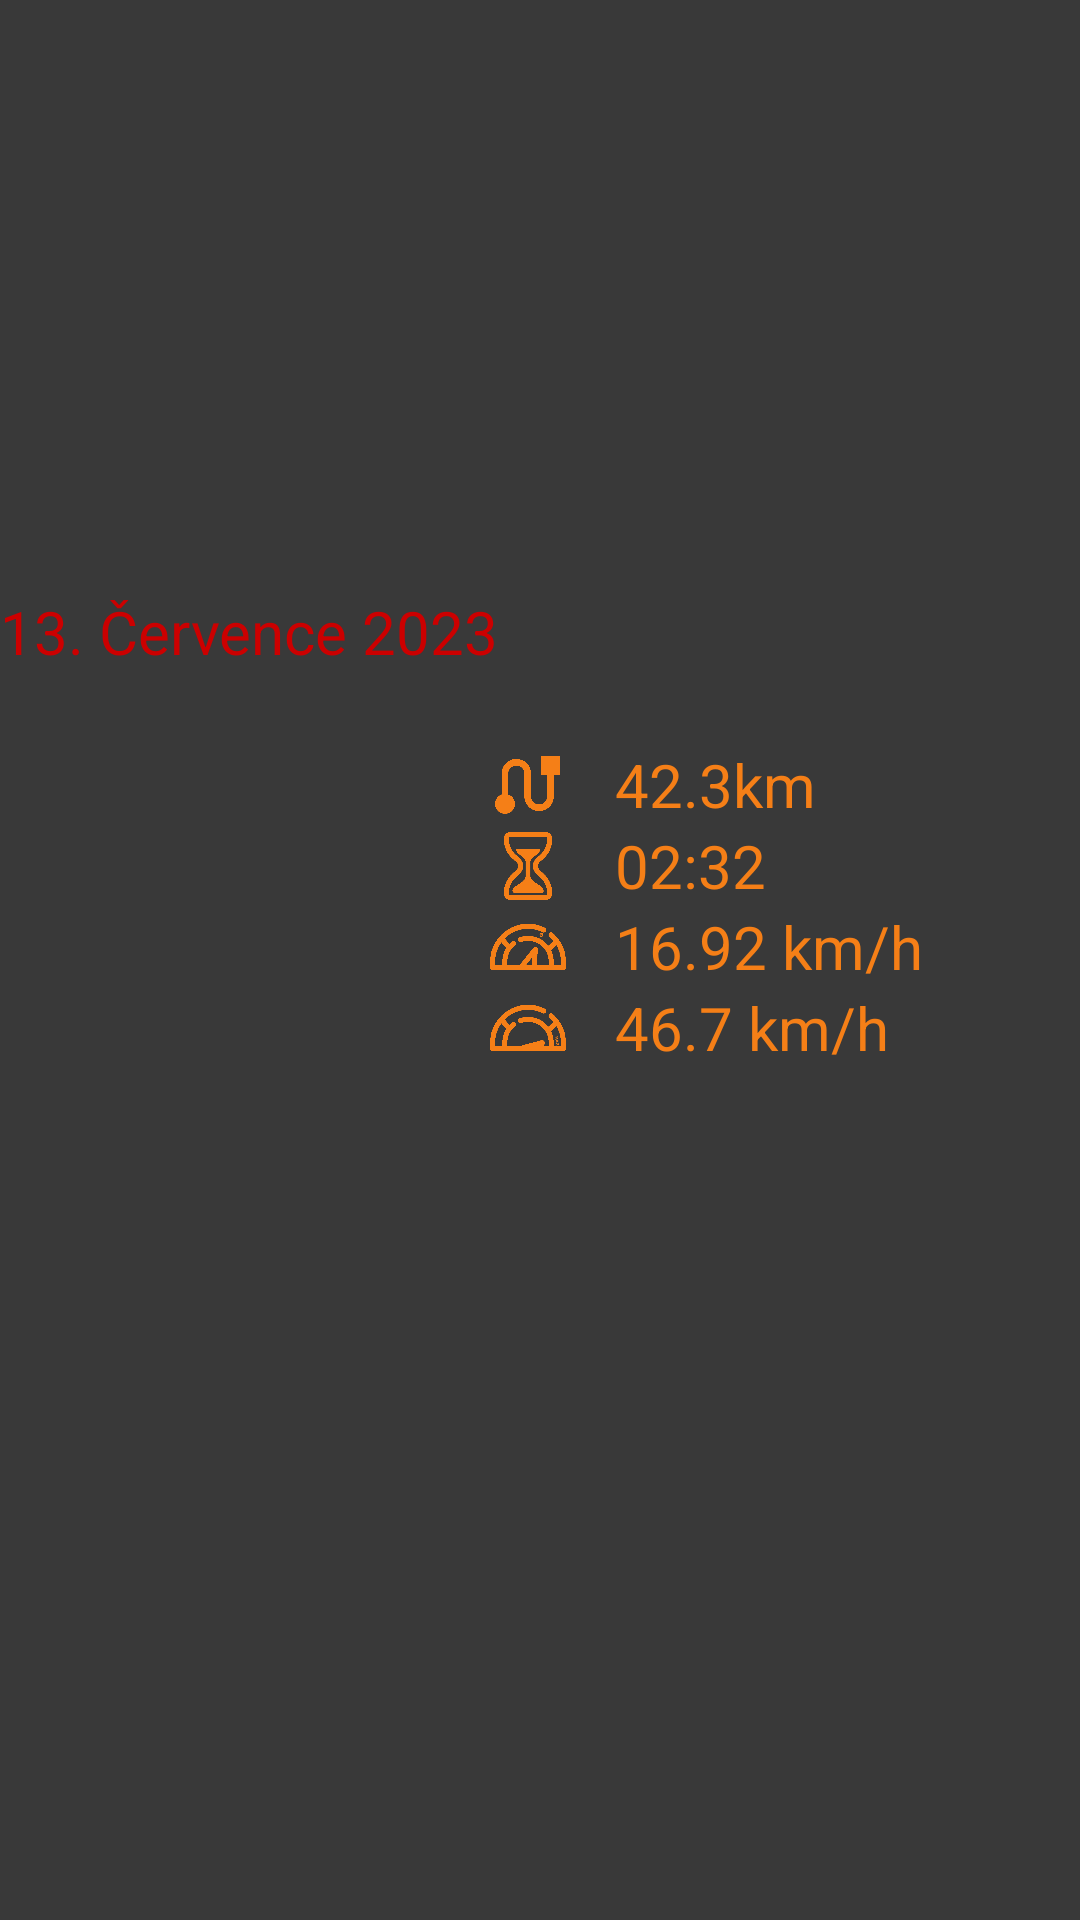

Screen size 1080 × 1920. Icon name, then its center in pixels as [x,y]:
average speed: [528,947]
hourglass: [528,866]
max speed: [528,1028]
route: [527,785]
